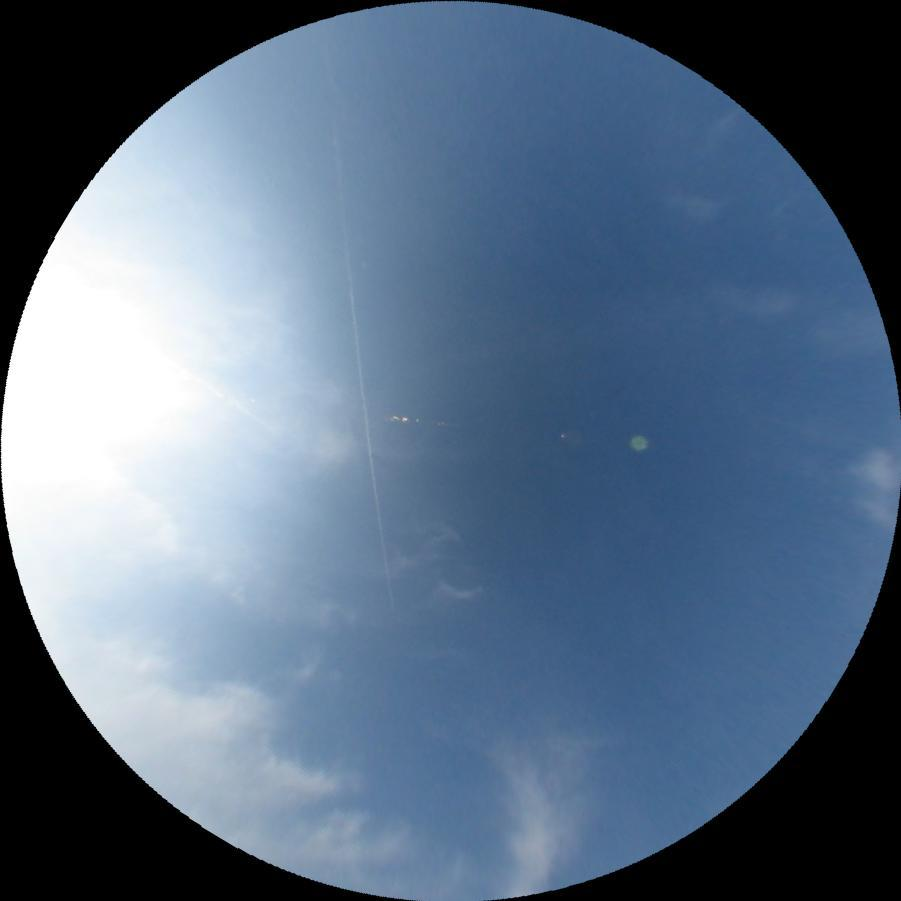contrail young: (317, 26, 392, 610)
parasite: (173, 361, 280, 433)
